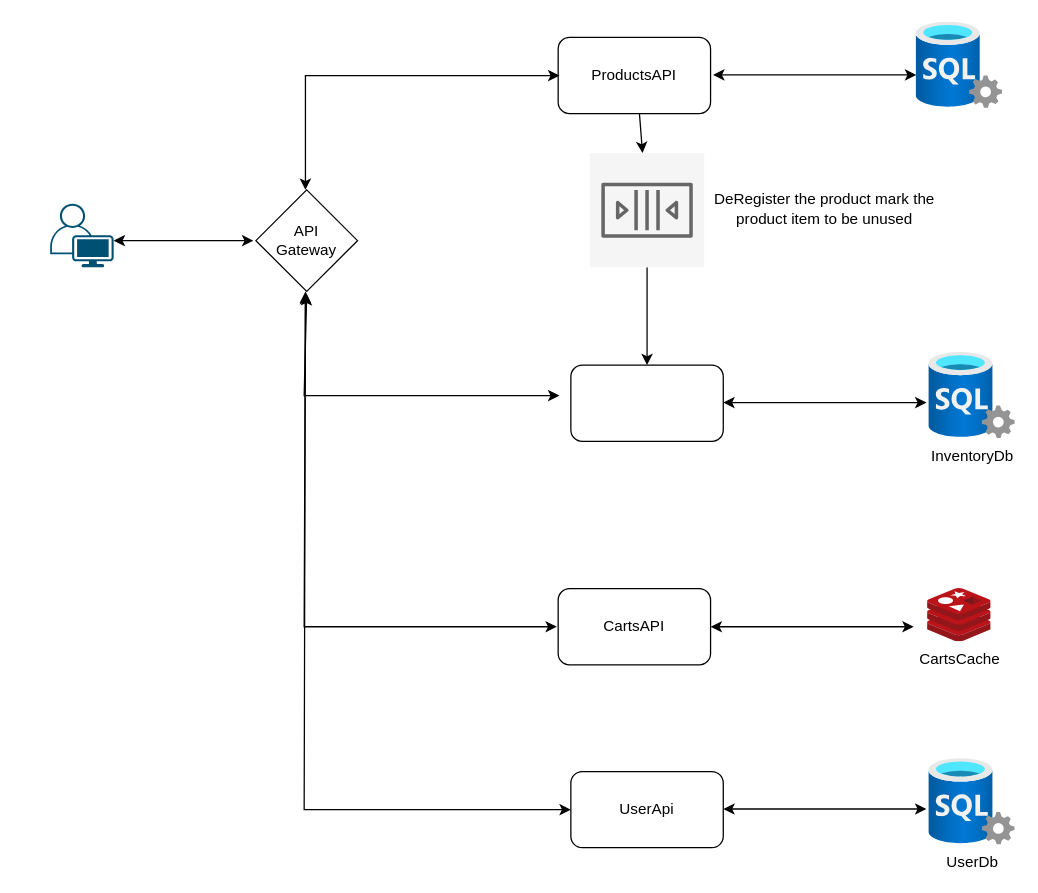
This 1038x893 diagram has some shape labels left out. The centre of each missing label's shape, as x and y in pixels:
"Client Browser/Postman" goes at (x=81, y=235).
"InventoryAPI" goes at (x=646, y=402).
"ProductsDb" goes at (x=959, y=65).
"Queue" goes at (x=646, y=209).
